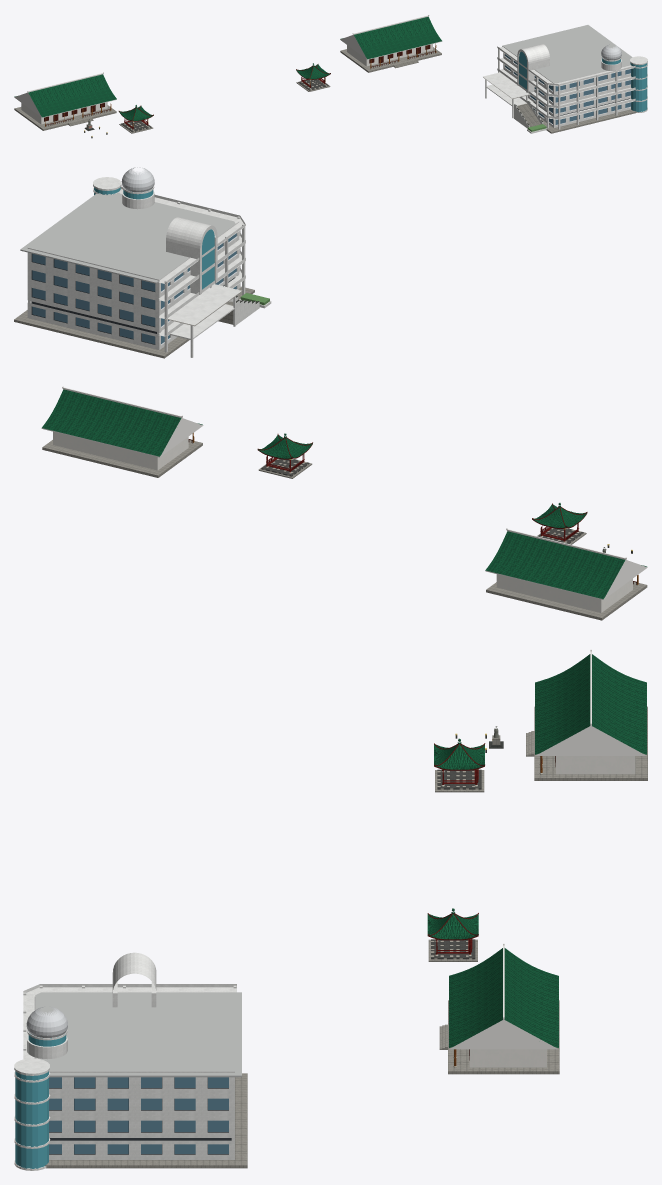
File: r2_heroes_heritage_lod1.glb
3 views of the same model, one above another, from view 1: azimuth 30°, elevation 25°; view 2: azimuth 150°, elevation 25°; view 3: azimuth 270°, elevation 25° (orthographic). The views are drawn at different scales.
Visible parts, largest first — view 1: library_observatory_r2.001, fengqitang_hall_r2.001, yanlintang_hall_r2.001, fengqiting_pavilion_r2.001, yanlinting_pavilion_r2.001; view 2: library_observatory_r2.001, fengqitang_hall_r2.001, yanlintang_hall_r2.001, yanlinting_pavilion_r2.001, fengqiting_pavilion_r2.001; view 3: library_observatory_r2.001, fengqitang_hall_r2.001, yanlintang_hall_r2.001, fengqiting_pavilion_r2.001, yanlinting_pavilion_r2.001.
Part boxes in pixels (x1,y1,x2,y2): library_observatory_r2.001: (483,25,647,133); fengqitang_hall_r2.001: (14,72,116,138); yanlintang_hall_r2.001: (340,15,442,72); fengqiting_pavilion_r2.001: (118,105,153,133); yanlinting_pavilion_r2.001: (296,63,330,91); library_observatory_r2.001: (14,167,271,358); fengqitang_hall_r2.001: (485,528,647,620); yanlintang_hall_r2.001: (41,386,203,477); yanlinting_pavilion_r2.001: (257,433,312,478); fengqiting_pavilion_r2.001: (532,503,587,544); library_observatory_r2.001: (14,952,247,1170); fengqitang_hall_r2.001: (455,649,647,780); yanlintang_hall_r2.001: (439,943,559,1074); fengqiting_pavilion_r2.001: (434,738,485,792); yanlinting_pavilion_r2.001: (427,908,478,961).
Size of the model in its own units: 173 by 22.98 by 100.
23 materials, 10 textured.
